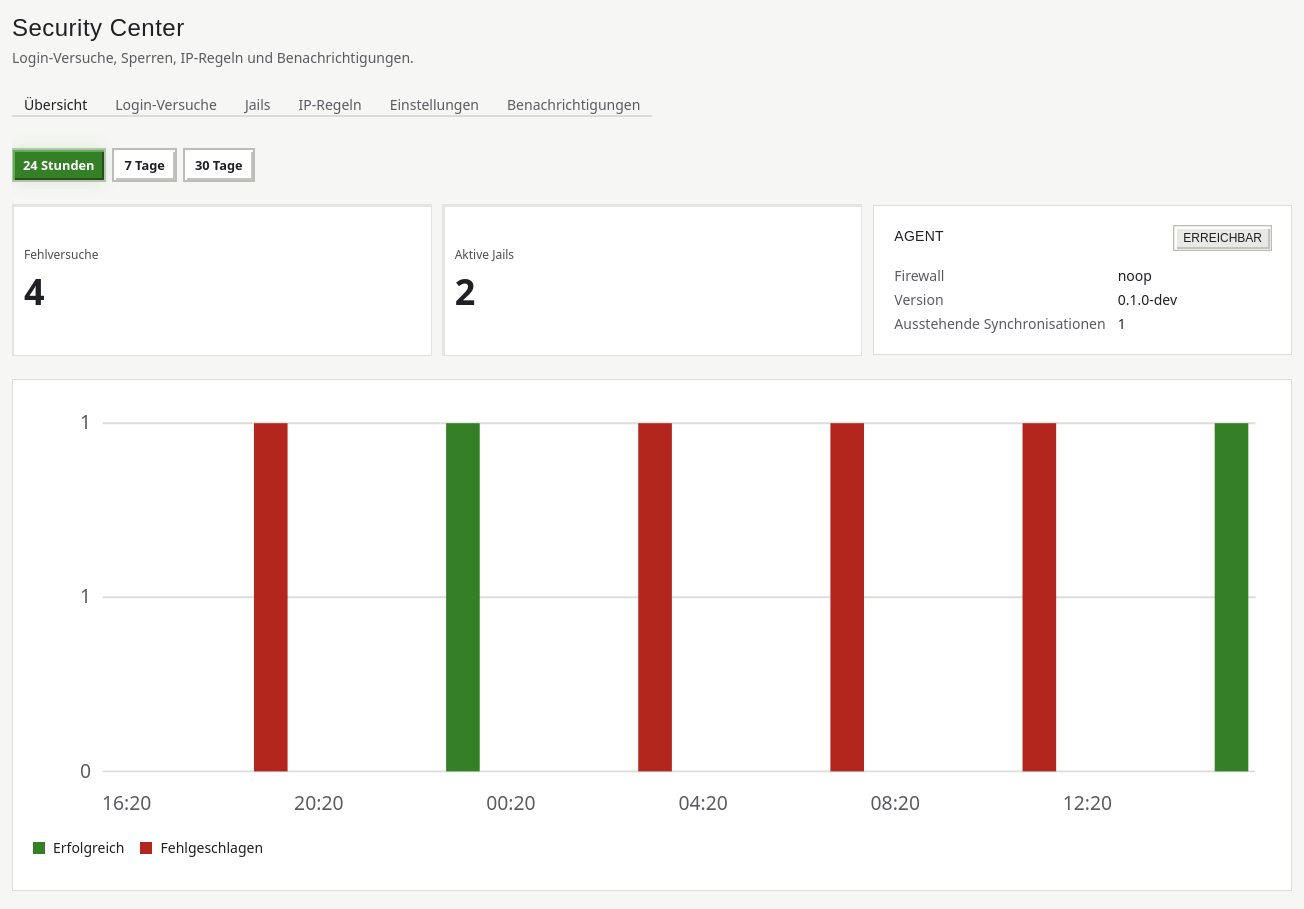
SecurityPage › shows all six tabs and switches between them
Expected: the heading "Security Center" is shown, [12,14,185,41]
Expected: the picture named "Login-Versuche" is shown, [33,400,1271,826]
Click the tab "Jails" at (258, 105), box [233,95,282,115]
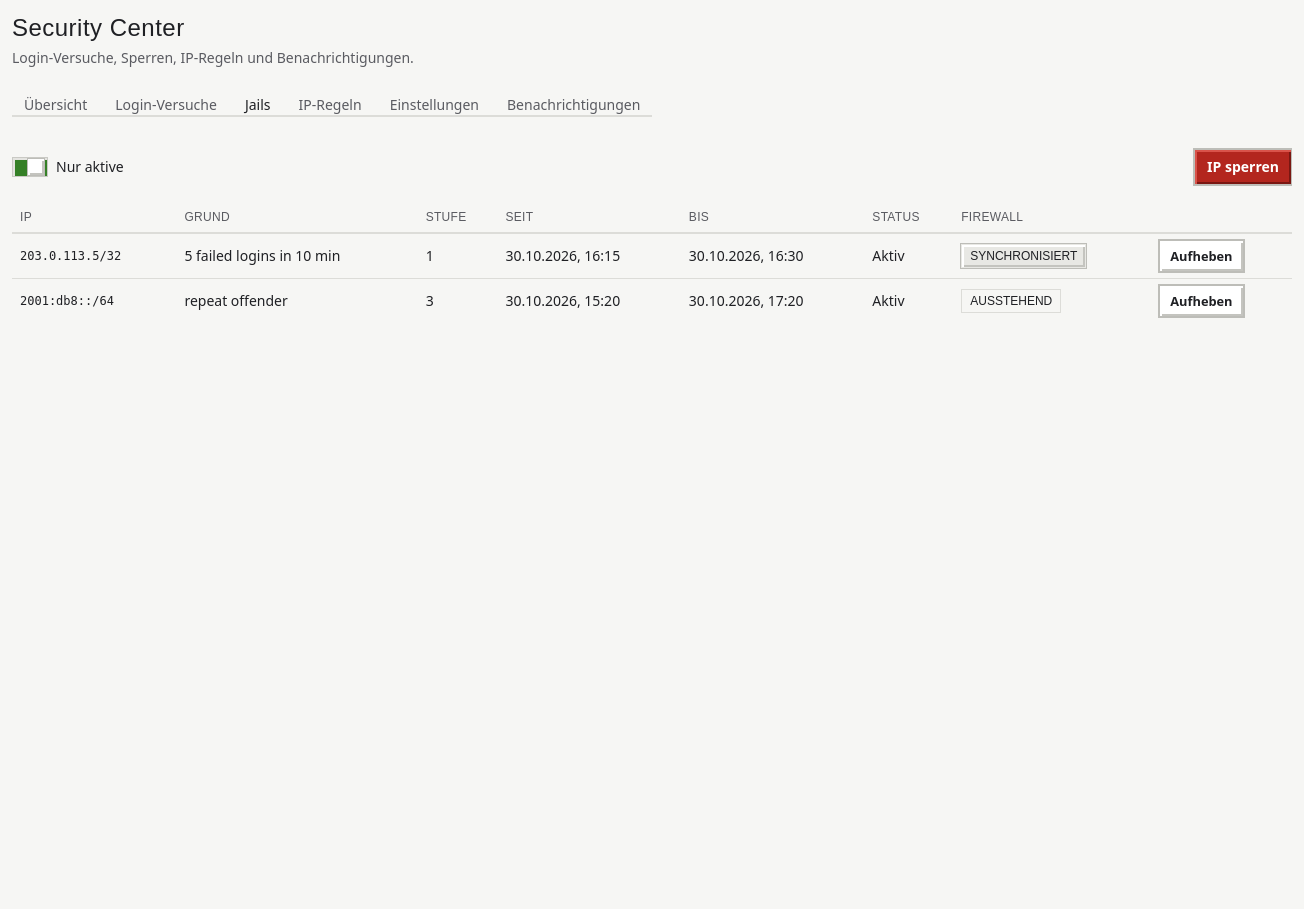
Now the table named "Jails" is shown, box [12,201,1292,323]
